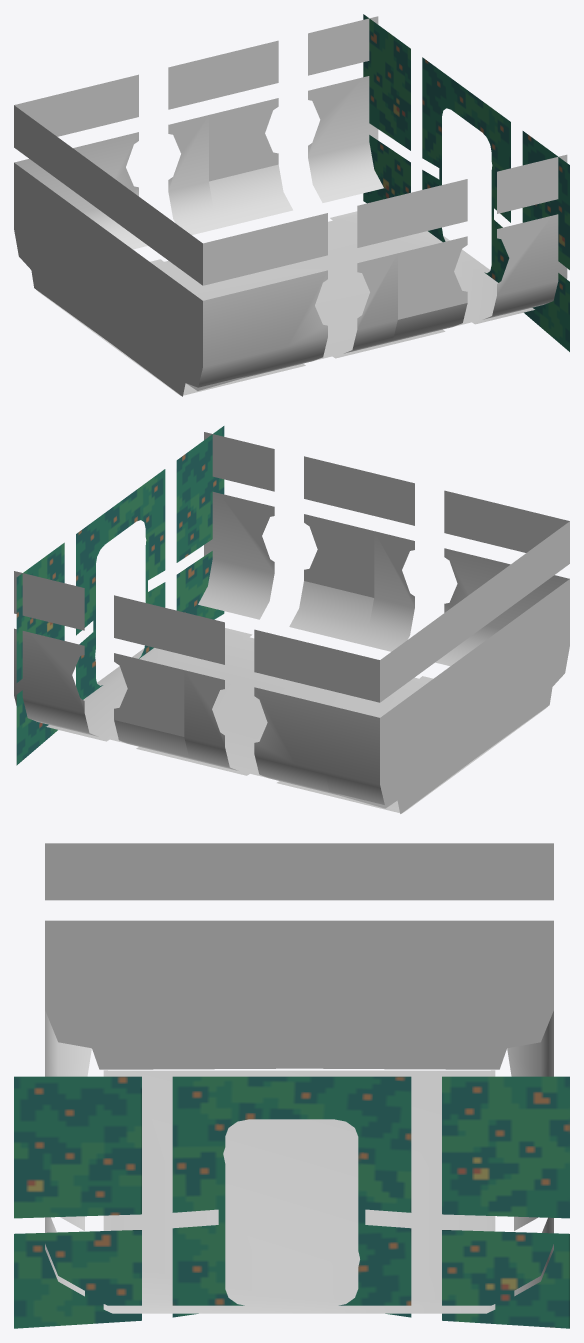
Rendered from Walls.fbx.
The picture shows the model from 3 angles, top to bottom: view 1: azimuth 30°, elevation 25°; view 2: azimuth 150°, elevation 25°; view 3: azimuth 270°, elevation 25°; orthographic projection. The views are drawn at different scales.
Parts seen in each view (by area): view 1: Cube.004, Cube.003; view 2: Cube.004, Cube.003; view 3: Cube.004, Cube.003.
Part boxes in pixels (x1,y1,x2,y2): Cube.004: (14,16,567,396); Cube.003: (363,14,569,351); Cube.004: (14,432,569,813); Cube.003: (16,426,224,765); Cube.004: (45,843,553,1313); Cube.003: (14,1076,569,1328).
Size of the model in its own units: 323 by 158 by 317.
2 materials, 1 textured.
